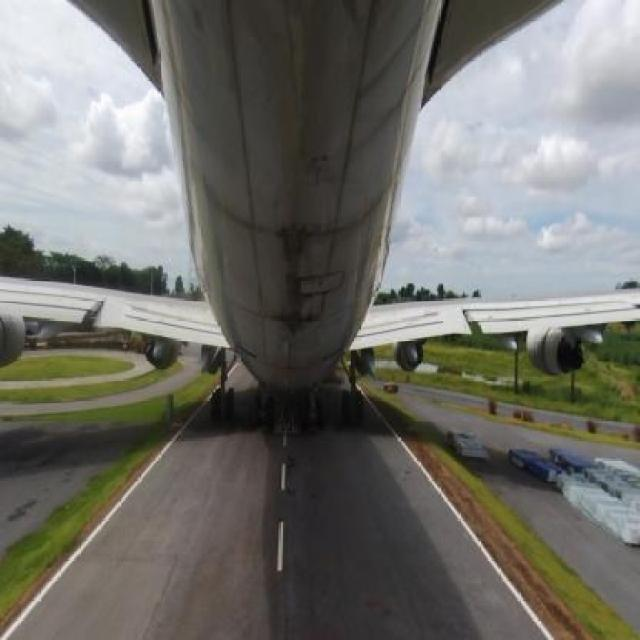Scartch: (201, 180, 404, 255), (334, 10, 394, 182), (258, 258, 336, 385), (219, 3, 263, 185)
